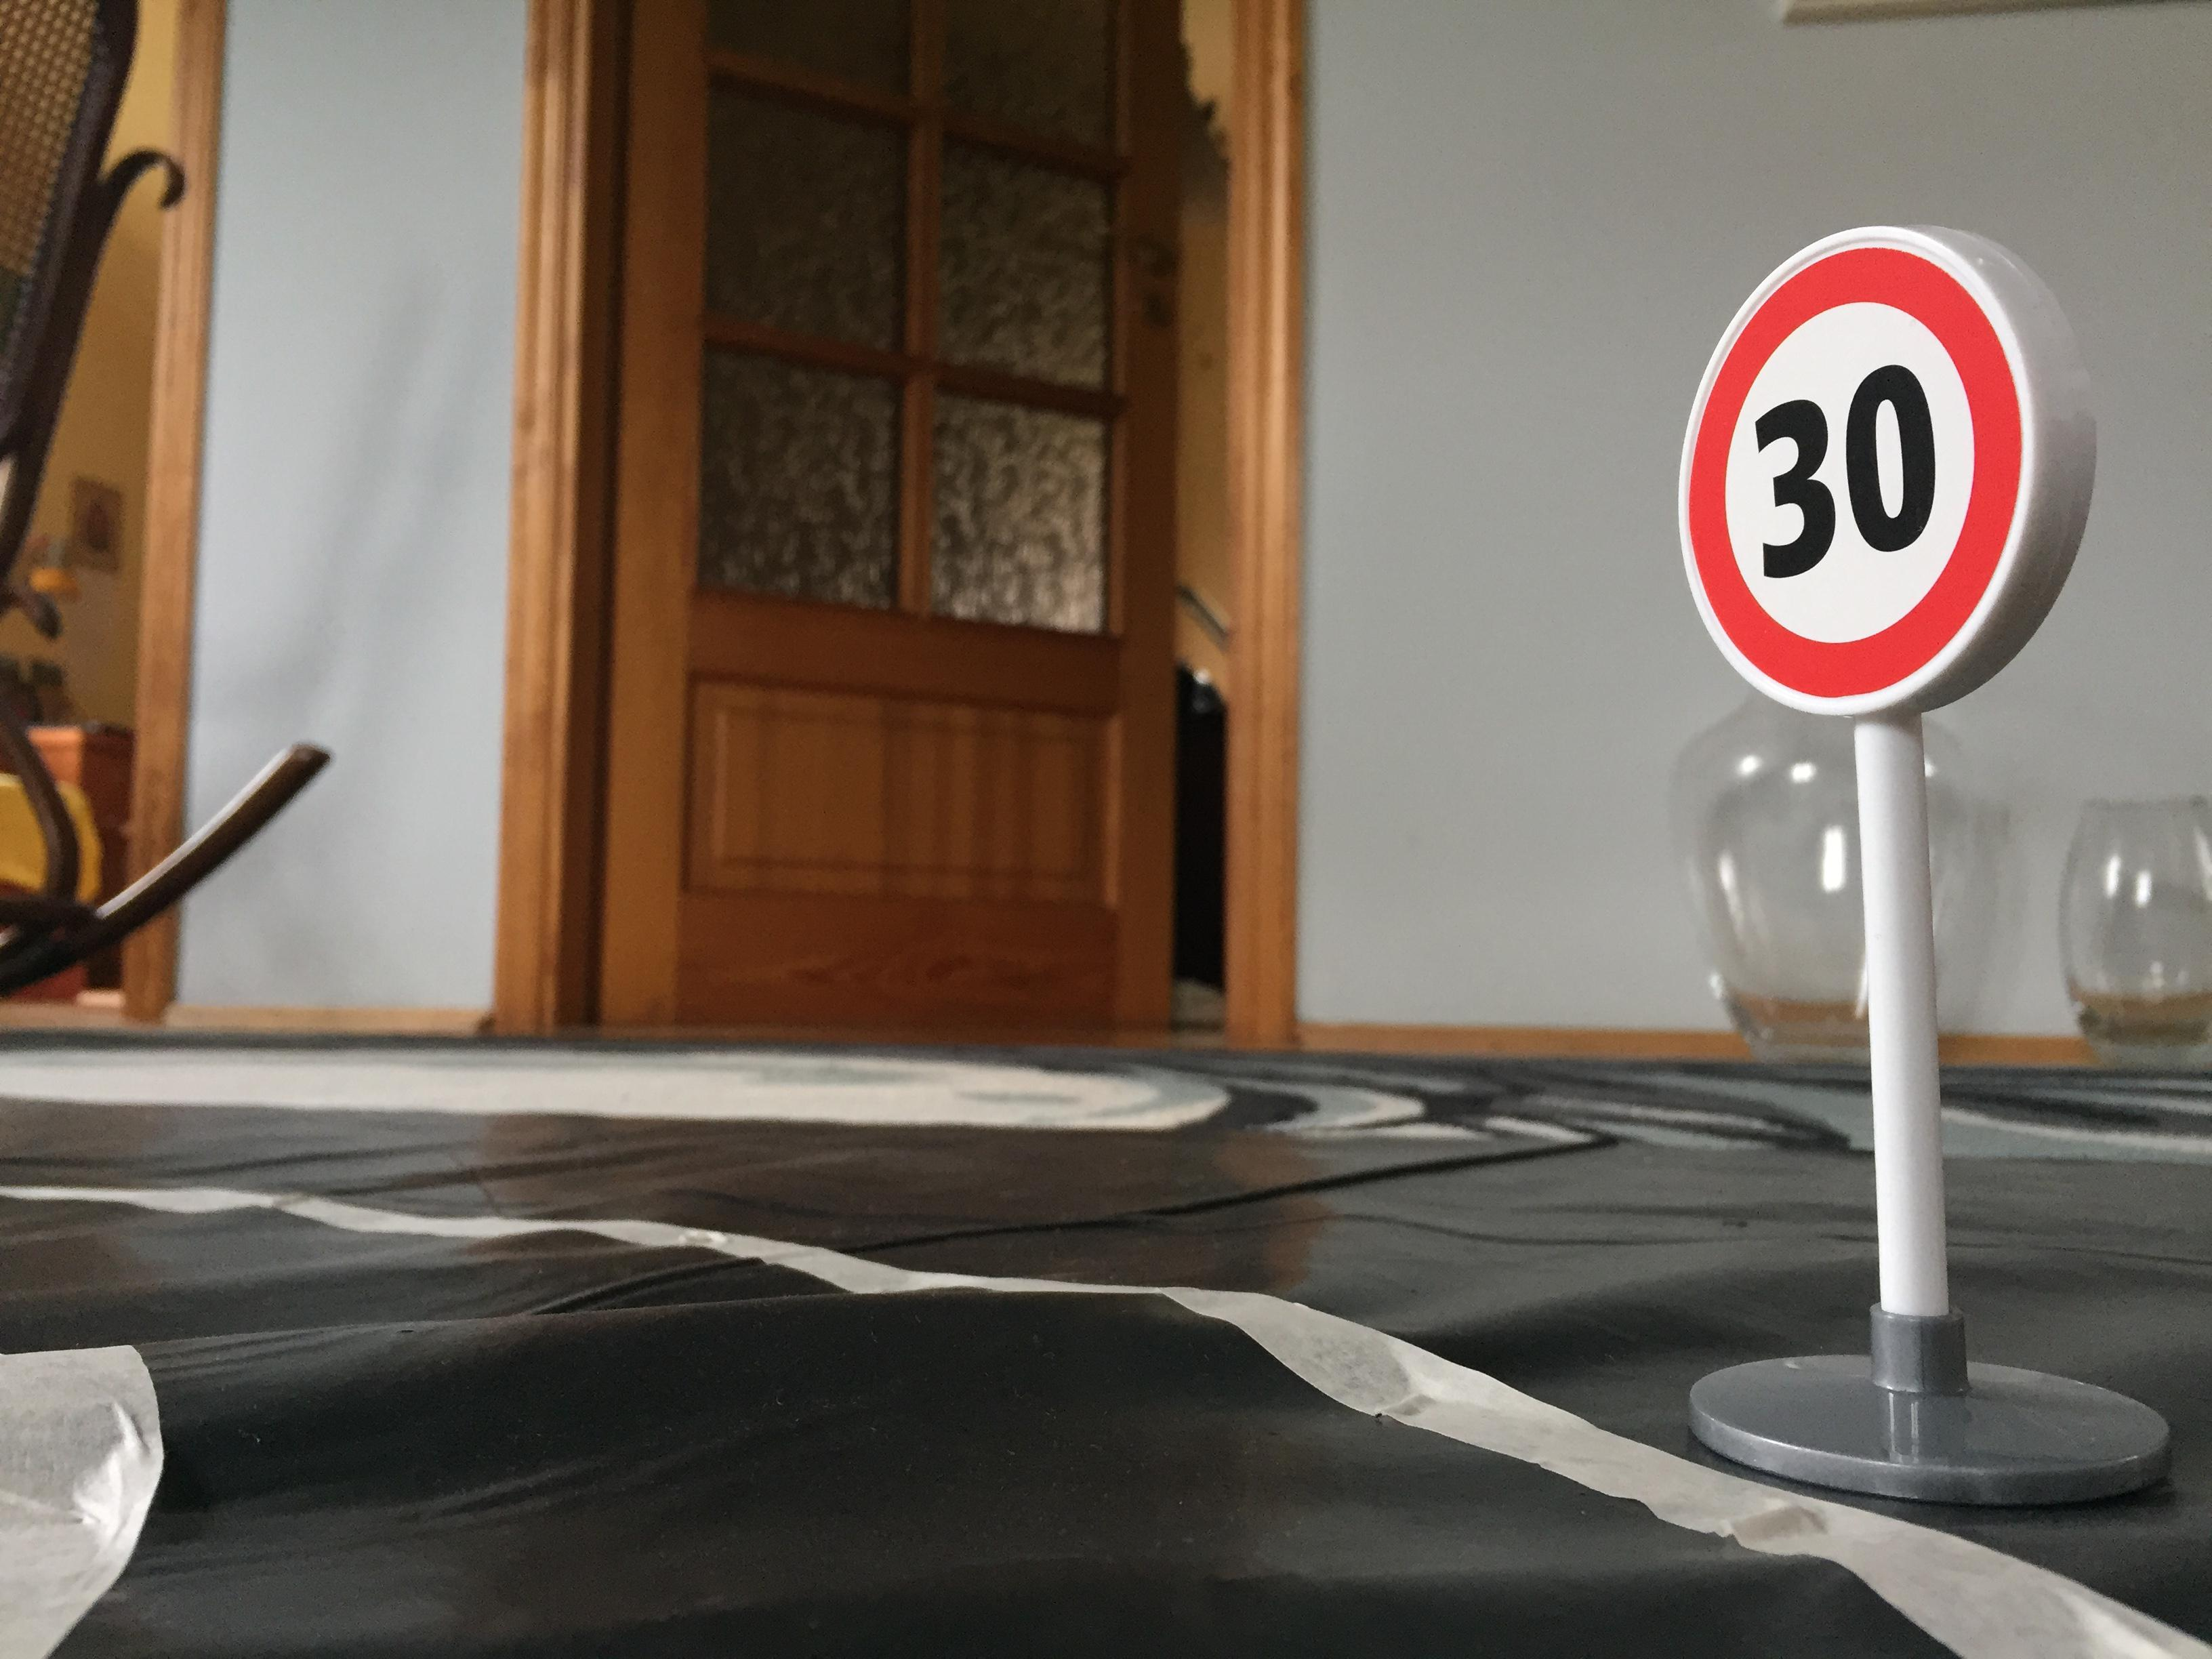speed: (1660, 211, 2113, 730)
